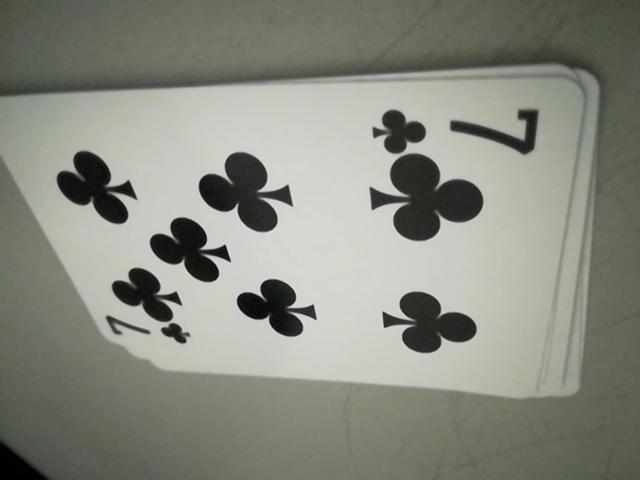mh 7: (368, 96, 553, 156), (100, 309, 187, 354)
